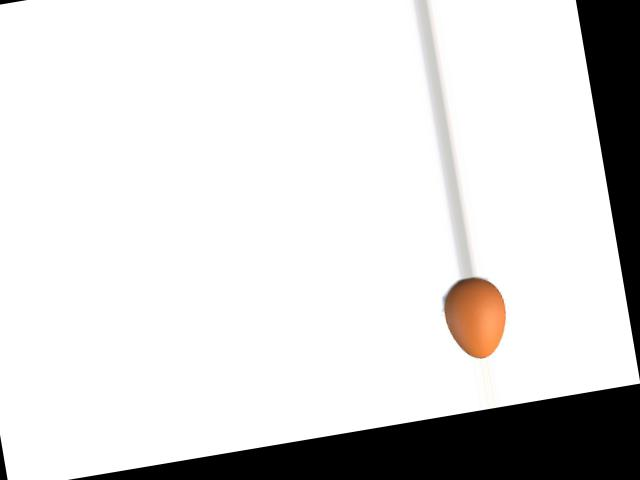egg: (439, 273, 512, 362)
